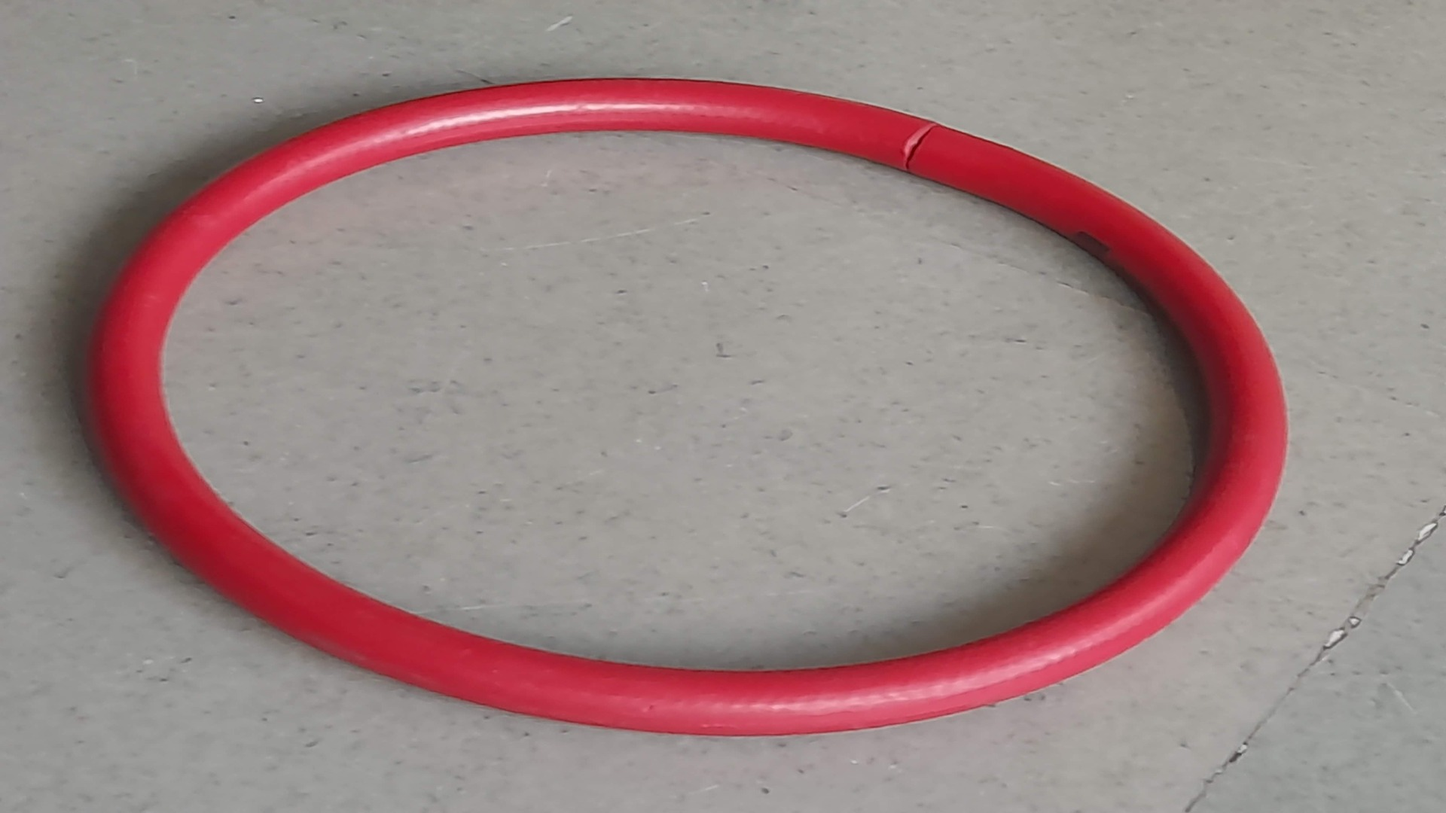Red ring: (92, 77, 1285, 729)
